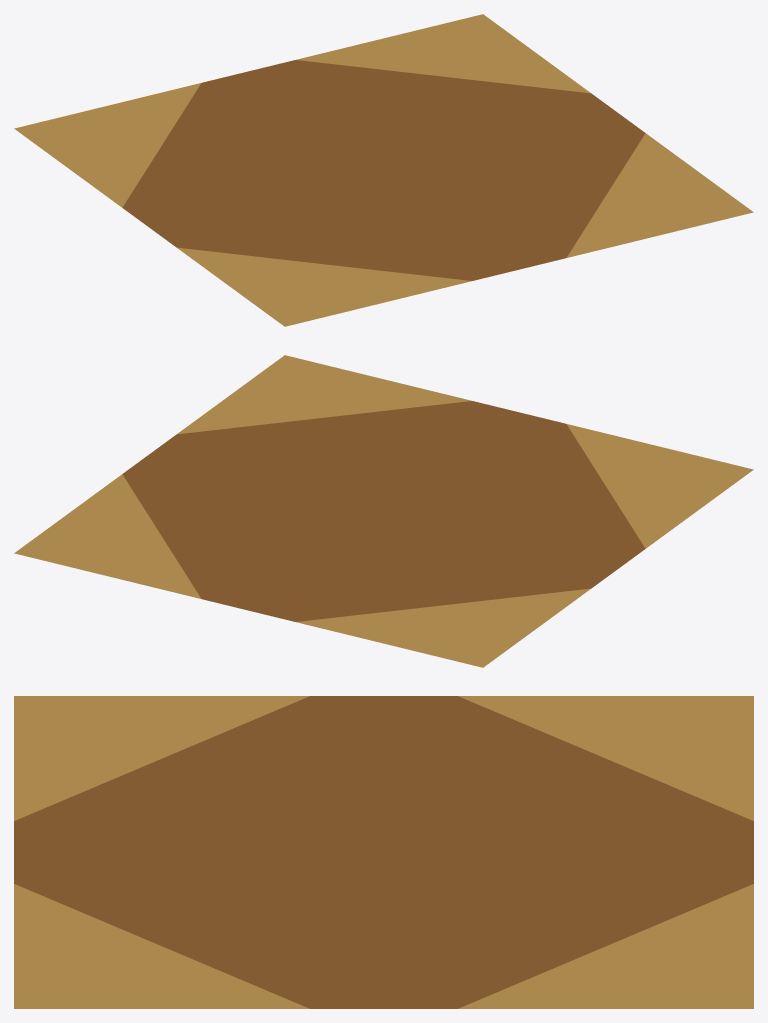
The model's file is SA_Env_Sand_CrossPaths_2.fbx.
3 views of the same model, one above another, from view 1: azimuth 30°, elevation 25°; view 2: azimuth 150°, elevation 25°; view 3: azimuth 270°, elevation 25° (orthographic). The views are drawn at different scales.
Visible parts, largest first — view 1: SA_Env_Sand_Corner; view 2: SA_Env_Sand_Corner; view 3: SA_Env_Sand_Corner.
Part boxes in pixels (bbox=[...]): SA_Env_Sand_Corner: bbox=[14, 14, 753, 326]; SA_Env_Sand_Corner: bbox=[14, 355, 753, 667]; SA_Env_Sand_Corner: bbox=[14, 696, 753, 1008].
Size of the model in its own units: 15 by 0 by 15.
